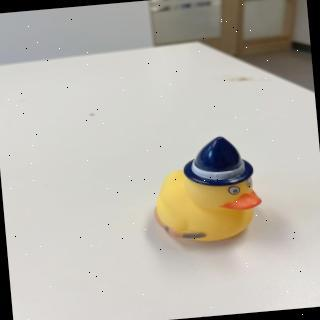duck_specialty: (147, 132, 269, 248)
